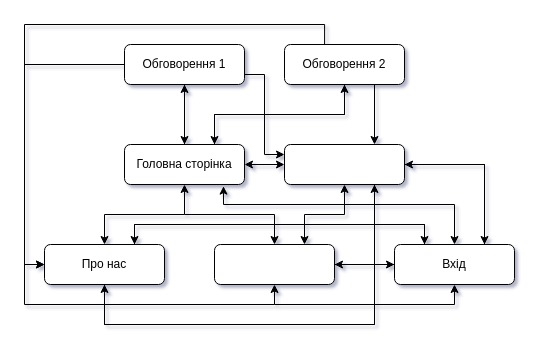
Some shapes in this 538 by 356 pixel diagram are drawn without their labels. Here are the shapes that lost their labels. From the top down, the centre of each, then its label:
At (344,164): "Профіль користувача".
At (274,264): "Реєстрація".
